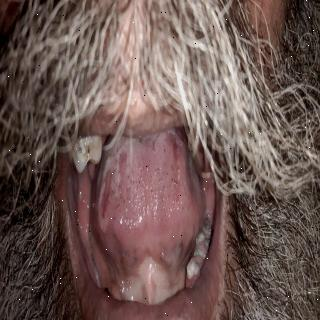cavities: (74, 136, 96, 170)
